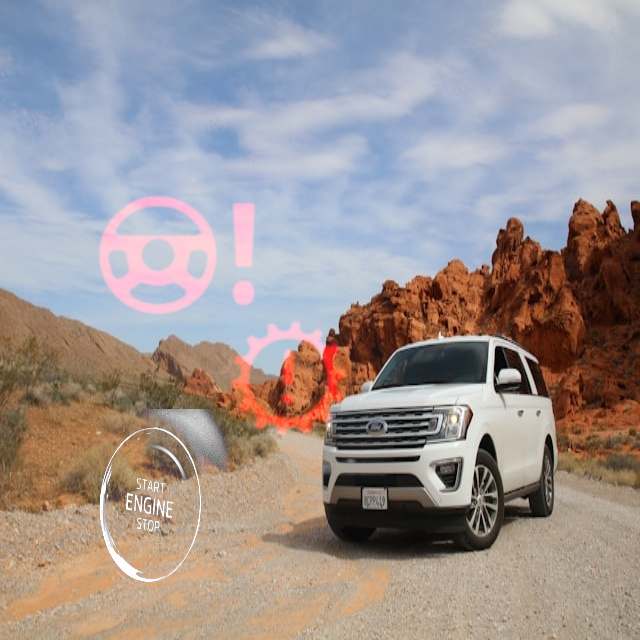symbol: (185, 275, 394, 484), (31, 409, 228, 606), (83, 162, 272, 351), (216, 92, 338, 214)
